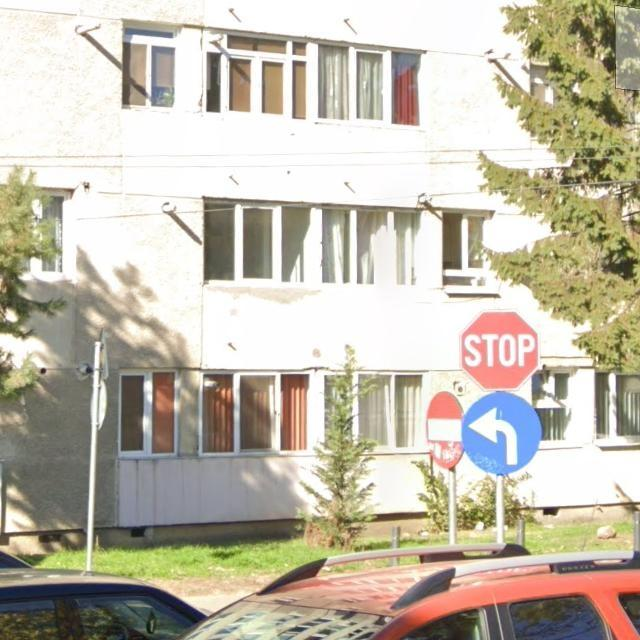prio_stop: (460, 308, 542, 391)
